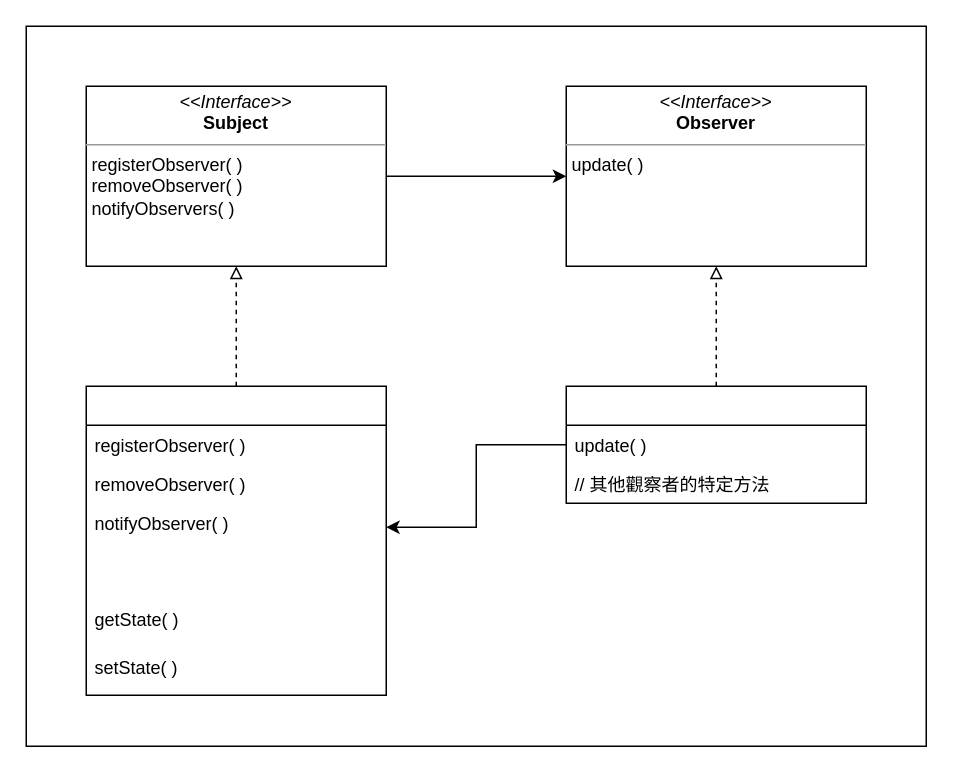
The diagram is 953 pixels wide and 773 high, and some of its shapes have lost their labels. The shapes that lost their labels are listed below. From the top down, each one's box as (x1, y1, x2, y2) in pixels, then its label:
(565, 385, 866, 503): ConcreteObserver
(85, 385, 386, 695): ConcreteSubject
